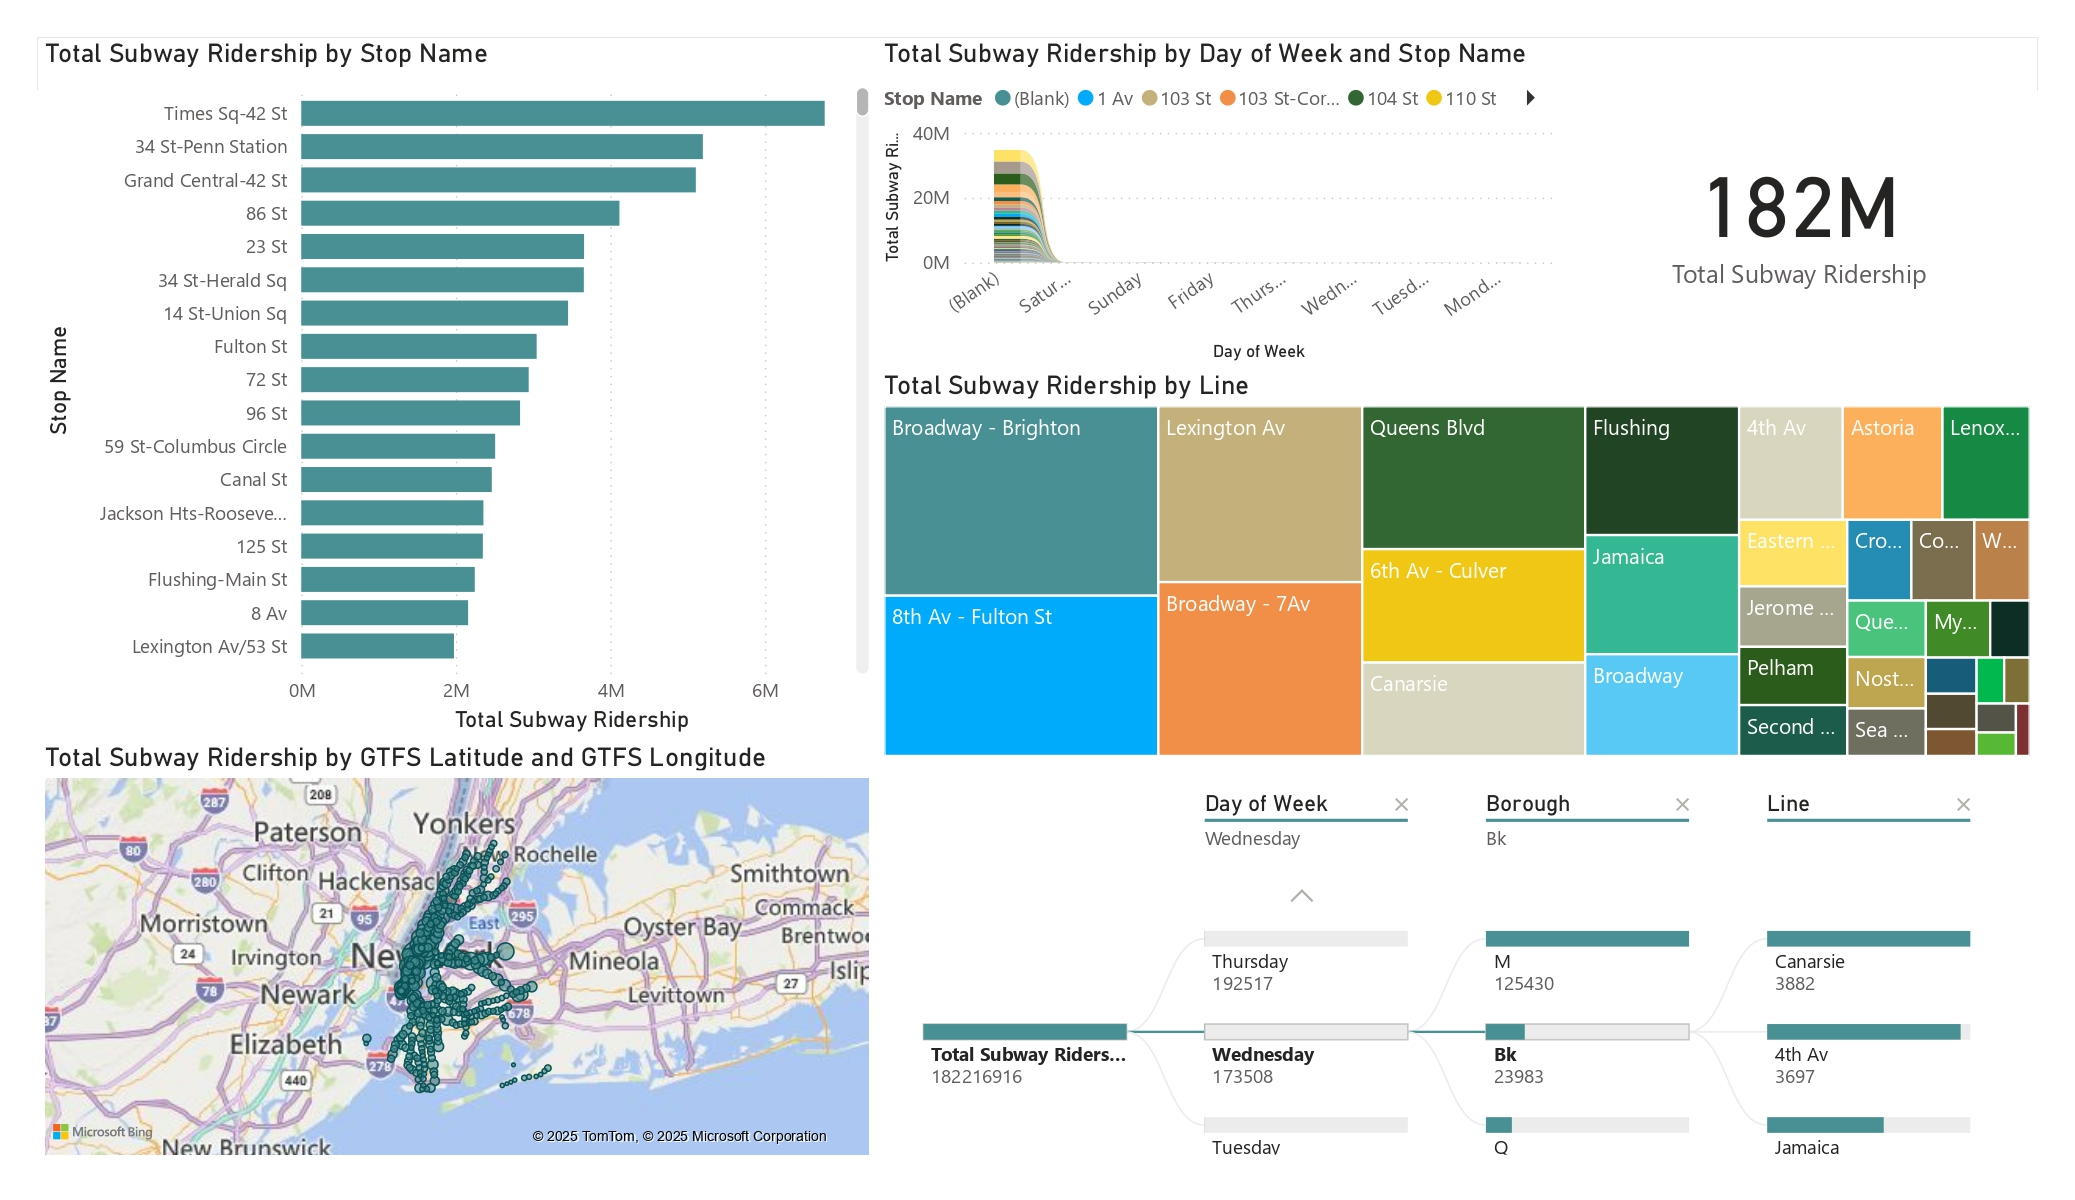

The dashboard page shown, as its layout file describes it:
{"tool":"powerbi","page":{"name":"Page 1","canvas":[1280,720],"ordinal":0},"visuals":[{"type":"card","fields":{"Values":["Bus_Breakdown_and_Delays_20250903.Total Subway Ridership"]},"box":[975,0,305,225],"z":0},{"type":"lineChart","fields":{"Category":["Date.Date.Variation.Date Hierarchy.Day"],"Y":["Bus_Breakdown_and_Delays_20250903.Total Subway Ridership"]},"box":[100,40,280,280],"z":1000},{"type":"barChart","fields":{"Y":["Bus_Breakdown_and_Delays_20250903.Total Subway Ridership"],"Category":["MTA_Subway_Stations_20250903.Stop Name"]},"box":[0,0,536.7,450],"z":2000},{"type":"map","fields":{"Y":["MTA_Subway_Stations_20250903.GTFS Latitude"],"X":["MTA_Subway_Stations_20250903.GTFS Longitude"],"Size":["Bus_Breakdown_and_Delays_20250903.Total Subway Ridership"]},"box":[0,450,537.1,270],"z":3000},{"type":"treemap","fields":{"Values":["Bus_Breakdown_and_Delays_20250903.Total Subway Ridership"],"Group":["MTA_Subway_Stations_20250903.Line","MTA_Subway_Stations_20250903.Borough"]},"box":[536.7,211.7,743.3,253.3],"z":3001},{"type":"ribbonChart","fields":{"Y":["Bus_Breakdown_and_Delays_20250903.Total Subway Ridership"],"Series":["MTA_Subway_Stations_20250903.Stop Name"],"Category":["Date.Day of Week"]},"box":[536.7,0,438.3,211.7],"z":3002},{"type":"decompositionTreeVisual","fields":{"Analyze":["Bus_Breakdown_and_Delays_20250903.Total Subway Ridership"],"ExplainBy":["Date.Day of Week","MTA_Subway_Stations_20250903.Borough","MTA_Subway_Stations_20250903.Line"]},"box":[536.7,465,743.3,255],"z":3003}]}

Visuals, with their boxes in screenshot pixels (x1, y1, x2, y2):
card - Bus_Breakdown_and_Delays_20250903.Total Subway Ridership: x1=1561, y1=38, x2=2038, y2=389
lineChart - Date.Date.Variation.Date Hierarchy.Day x Bus_Breakdown_and_Delays_20250903.Total Subway Ridership: x1=194, y1=100, x2=631, y2=538
barChart - Bus_Breakdown_and_Delays_20250903.Total Subway Ridership x MTA_Subway_Stations_20250903.Stop Name: x1=38, y1=38, x2=876, y2=741
map - MTA_Subway_Stations_20250903.GTFS Latitude x MTA_Subway_Stations_20250903.GTFS Longitude: x1=38, y1=741, x2=877, y2=1162
treemap - Bus_Breakdown_and_Delays_20250903.Total Subway Ridership x MTA_Subway_Stations_20250903.Line: x1=876, y1=368, x2=2038, y2=764
ribbonChart - Bus_Breakdown_and_Delays_20250903.Total Subway Ridership x MTA_Subway_Stations_20250903.Stop Name: x1=876, y1=38, x2=1561, y2=368
decompositionTreeVisual - Bus_Breakdown_and_Delays_20250903.Total Subway Ridership x Date.Day of Week: x1=876, y1=764, x2=2038, y2=1162
